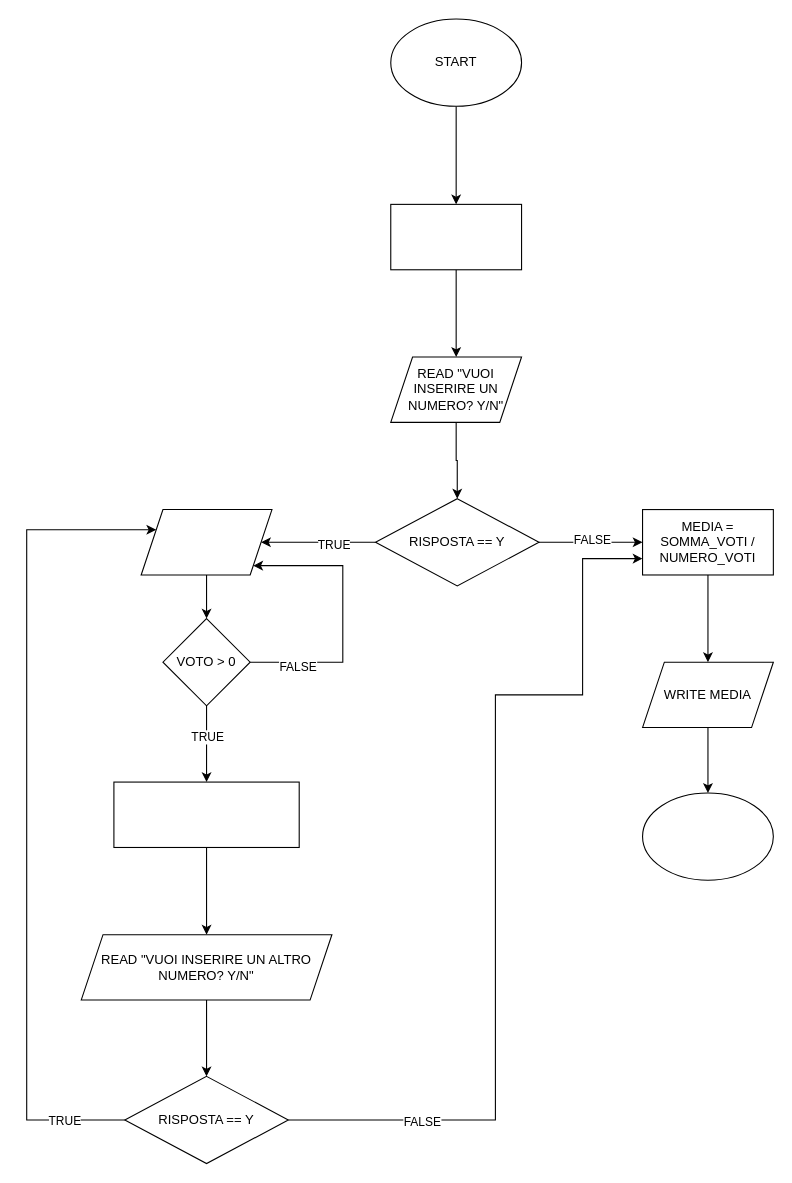
Some shapes in this 792 by 1183 pixel diagram are drawn without their labels. The shapes that lost their labels are listed below. From the top down, each one's box as (x1, y1, x2, y2) in pixels, then its label:
(390, 203, 522, 270): SOMMA_VOTI = 0 NUMERO_VOTI= 0
(140, 508, 272, 575): READ VOTO
(113, 781, 299, 847): SOMMA_VOTI +=VOTO NUMERO_VOTI += 1
(641, 792, 773, 880): END
